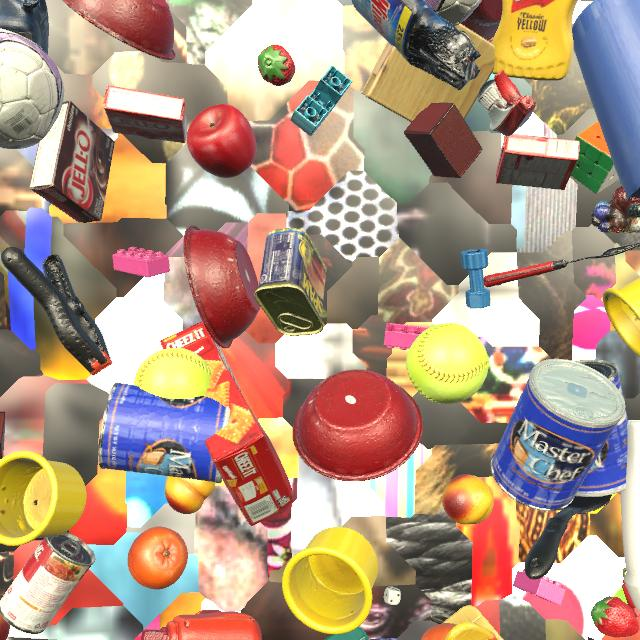ycb_002_master_chef_can: (491, 359, 625, 511), (98, 382, 230, 484), (575, 359, 628, 497)
ycb_003_cracker_box: (160, 322, 293, 526)
ycb_005_tomato_soup_can: (0, 532, 95, 634)
ycb_006_mustard_bottle: (492, 0, 578, 81)
ycb_008_pudding_box: (29, 100, 115, 223)
ycb_009_gelatin_box: (103, 85, 188, 143), (496, 134, 580, 190)
ycb_010_potted_meat_can: (254, 228, 326, 336)
ycb_012_strawberry: (591, 596, 639, 637), (258, 44, 295, 86)
ycb_013_apple: (187, 104, 257, 178)
ycb_015_peach: (442, 474, 494, 525), (165, 476, 215, 514), (0, 614, 10, 640)
ycb_017_orange: (128, 527, 188, 589), (421, 623, 456, 640)
